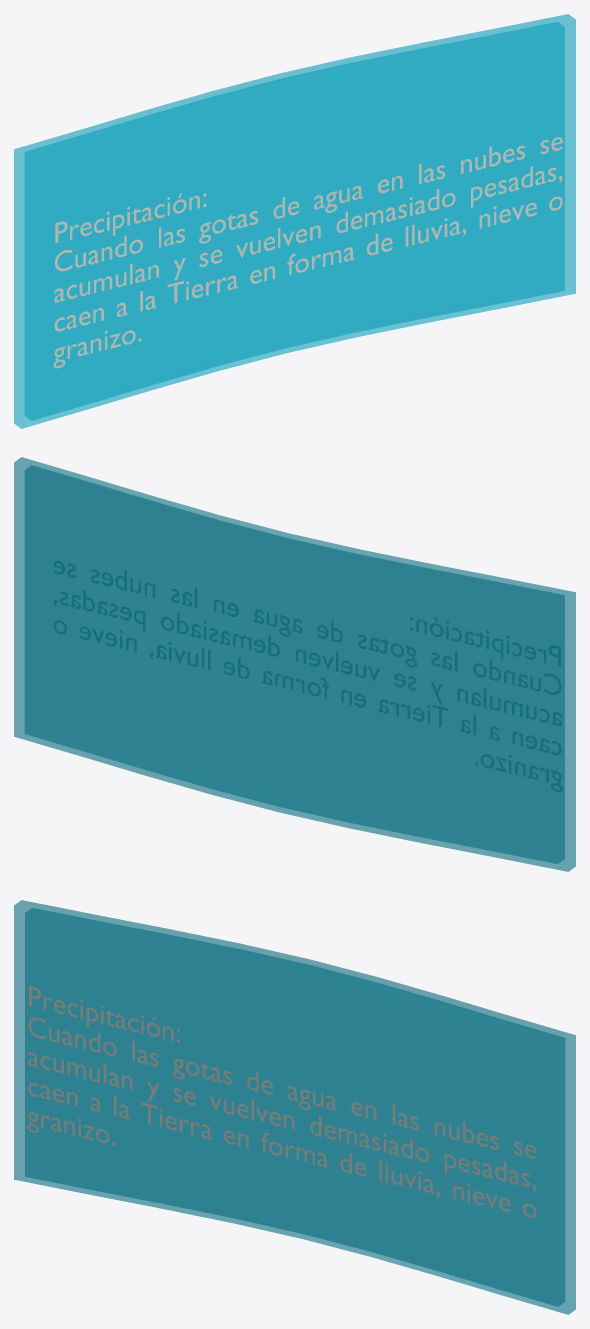
File: pre.glb
3 views of the same model, one above another, from view 1: azimuth 30°, elevation 25°; view 2: azimuth 150°, elevation 25°; view 3: azimuth 330°, elevation 25° (orthographic).
Visible parts, largest first — view 1: Cube, Precipitacion; view 2: Cube, Precipitacion; view 3: Cube, Precipitacion.
Part boxes in pixels (x1,y1,x2,y2): Cube: [14, 14, 575, 428]; Precipitacion: [53, 137, 562, 368]; Cube: [14, 457, 575, 871]; Precipitacion: [54, 561, 561, 791]; Cube: [14, 900, 575, 1314]; Precipitacion: [27, 986, 536, 1217].
Size of the model in its own units: 4.23 by 2 by 0.3736.
